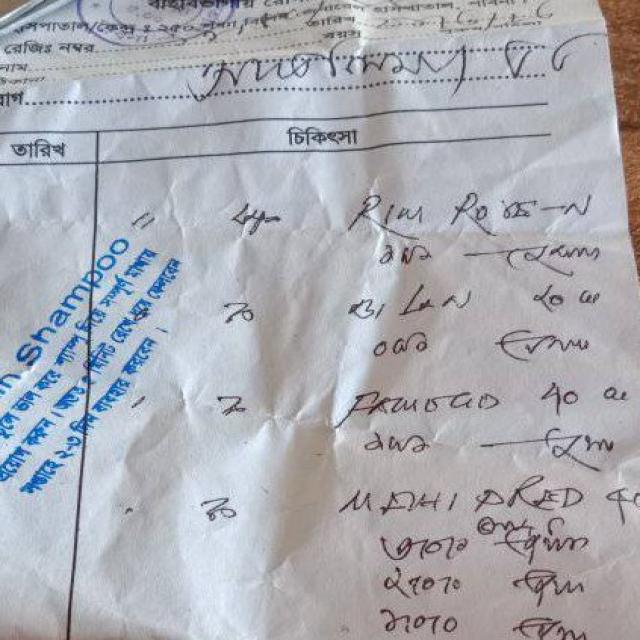Bilan: (336, 284, 479, 328)
Frucard: (341, 387, 506, 422)
Methipred: (337, 473, 589, 526)
